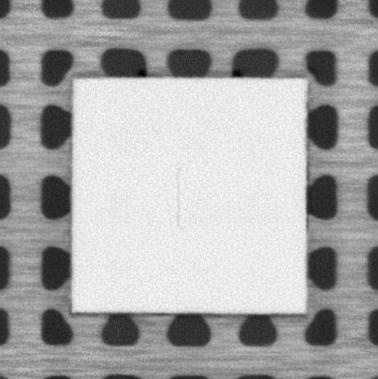DIE_CRACK: (171, 168, 188, 230)
